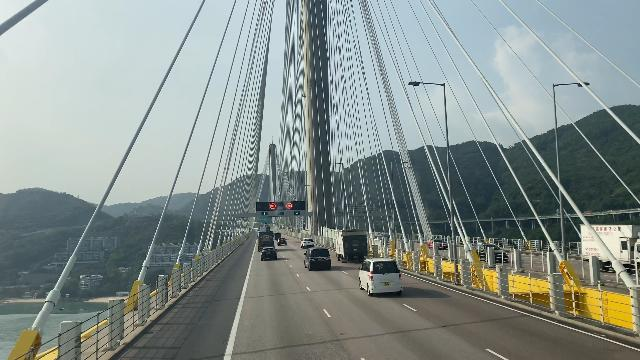car: (358, 259, 405, 298), (462, 237, 516, 266), (302, 246, 333, 273), (261, 246, 278, 261), (300, 238, 317, 250), (278, 237, 289, 248)
truck: (579, 216, 640, 279), (336, 229, 372, 264), (256, 231, 278, 251)
